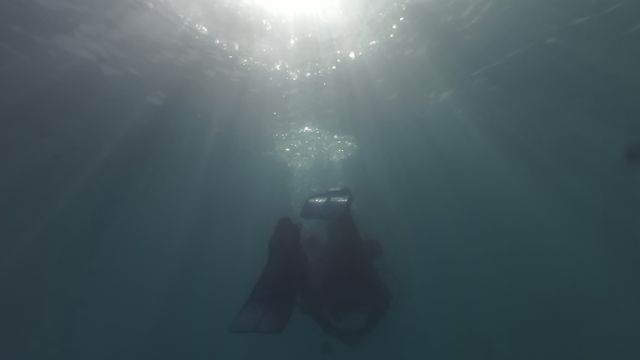Diver: (235, 191, 367, 357)
